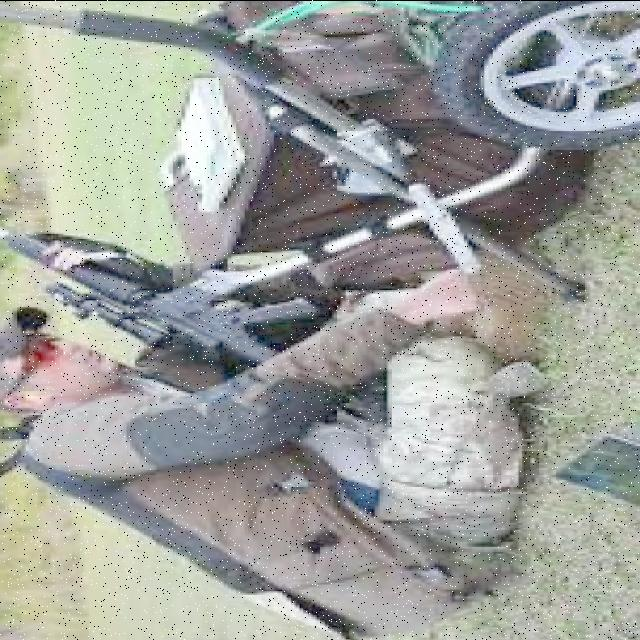Rifle: (0, 224, 390, 425)
